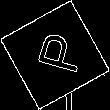P_W: (26, 31, 84, 79)
